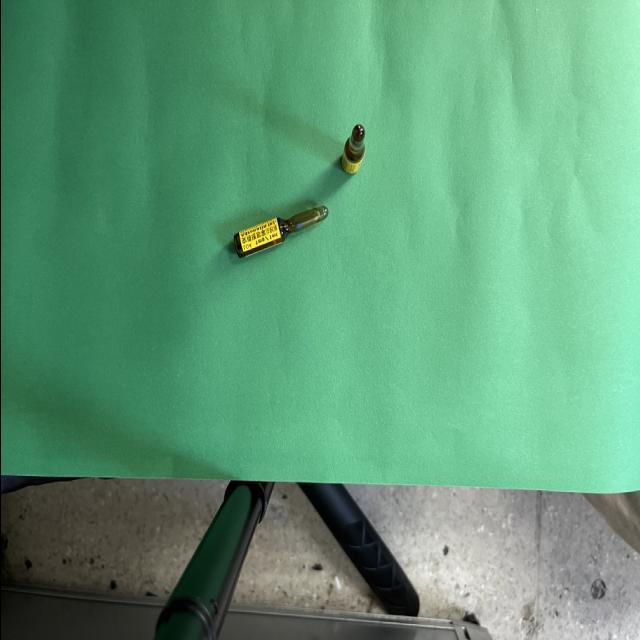Ampoules: (233, 206, 327, 258), (340, 125, 364, 174)
